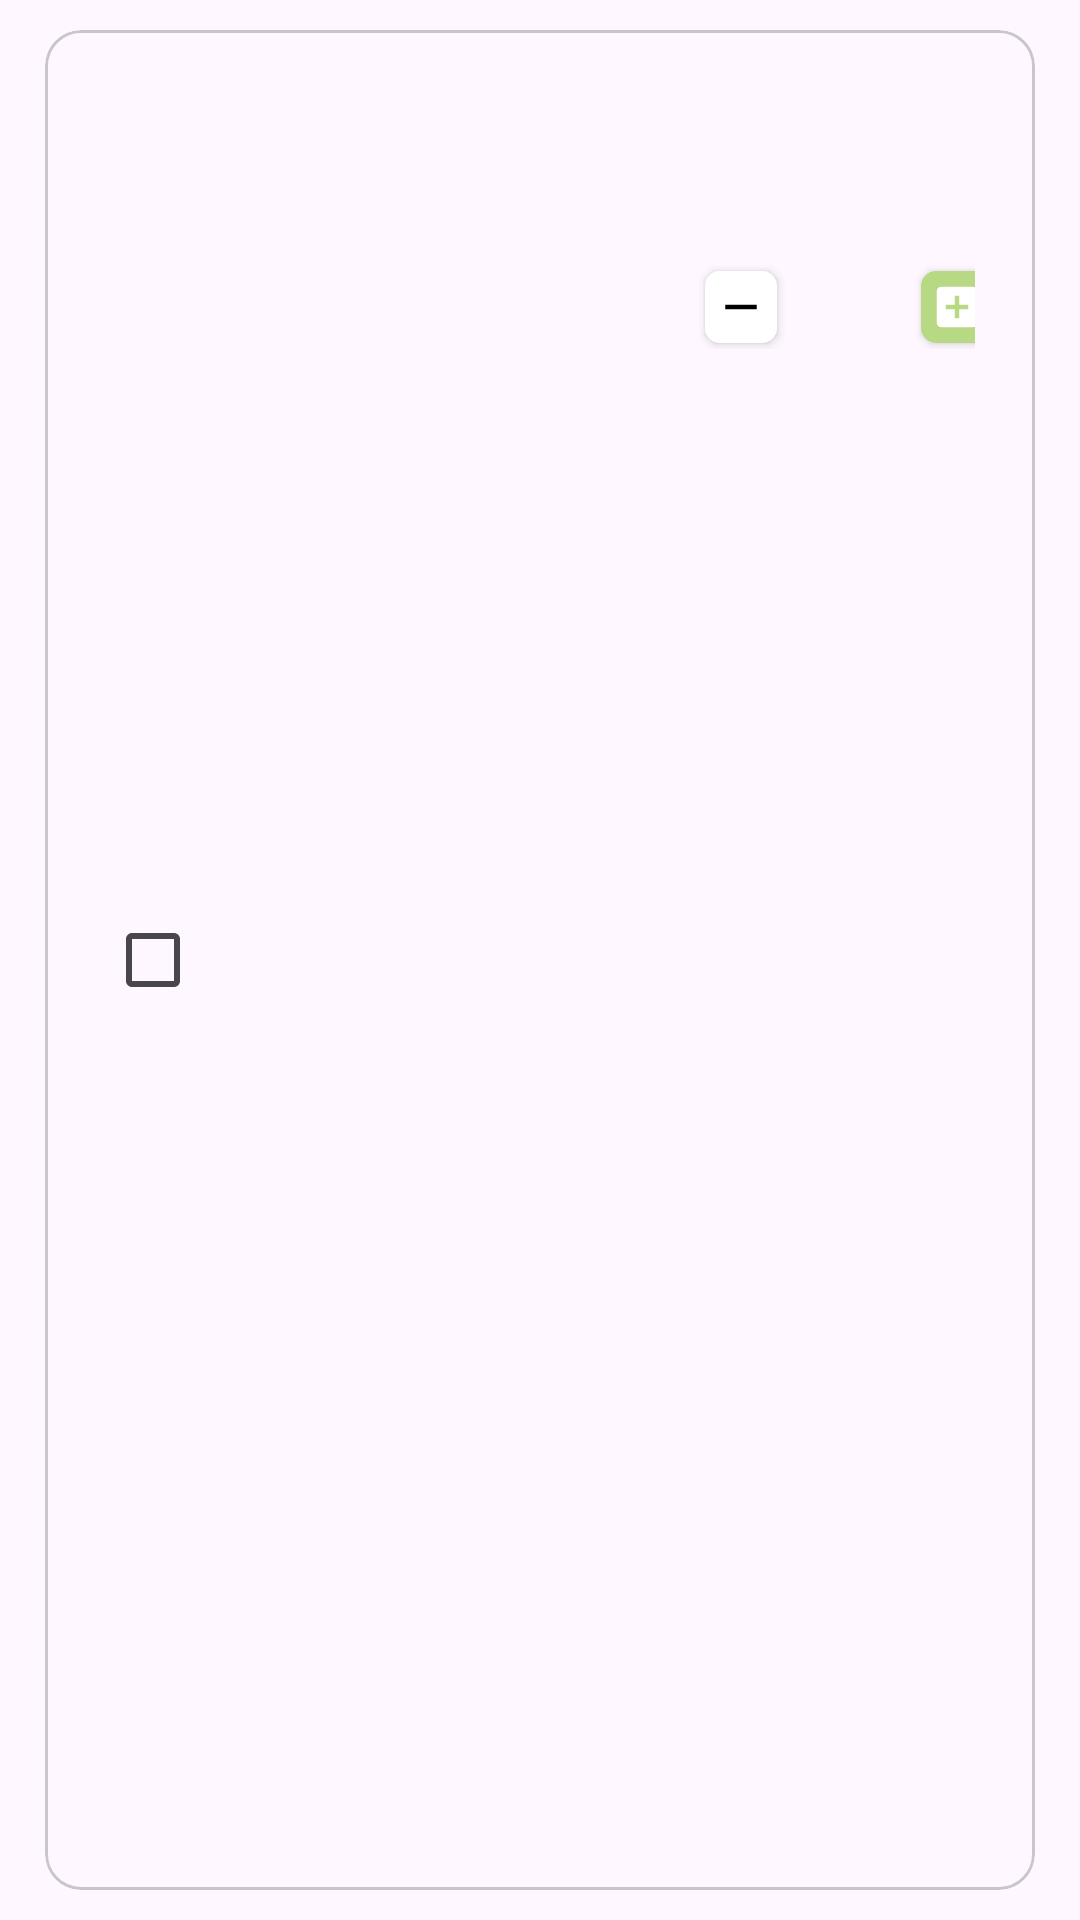

Point at icon controls on the screen. Image size 1080 × 1920, points as [x,y].
remove: [741,307]
